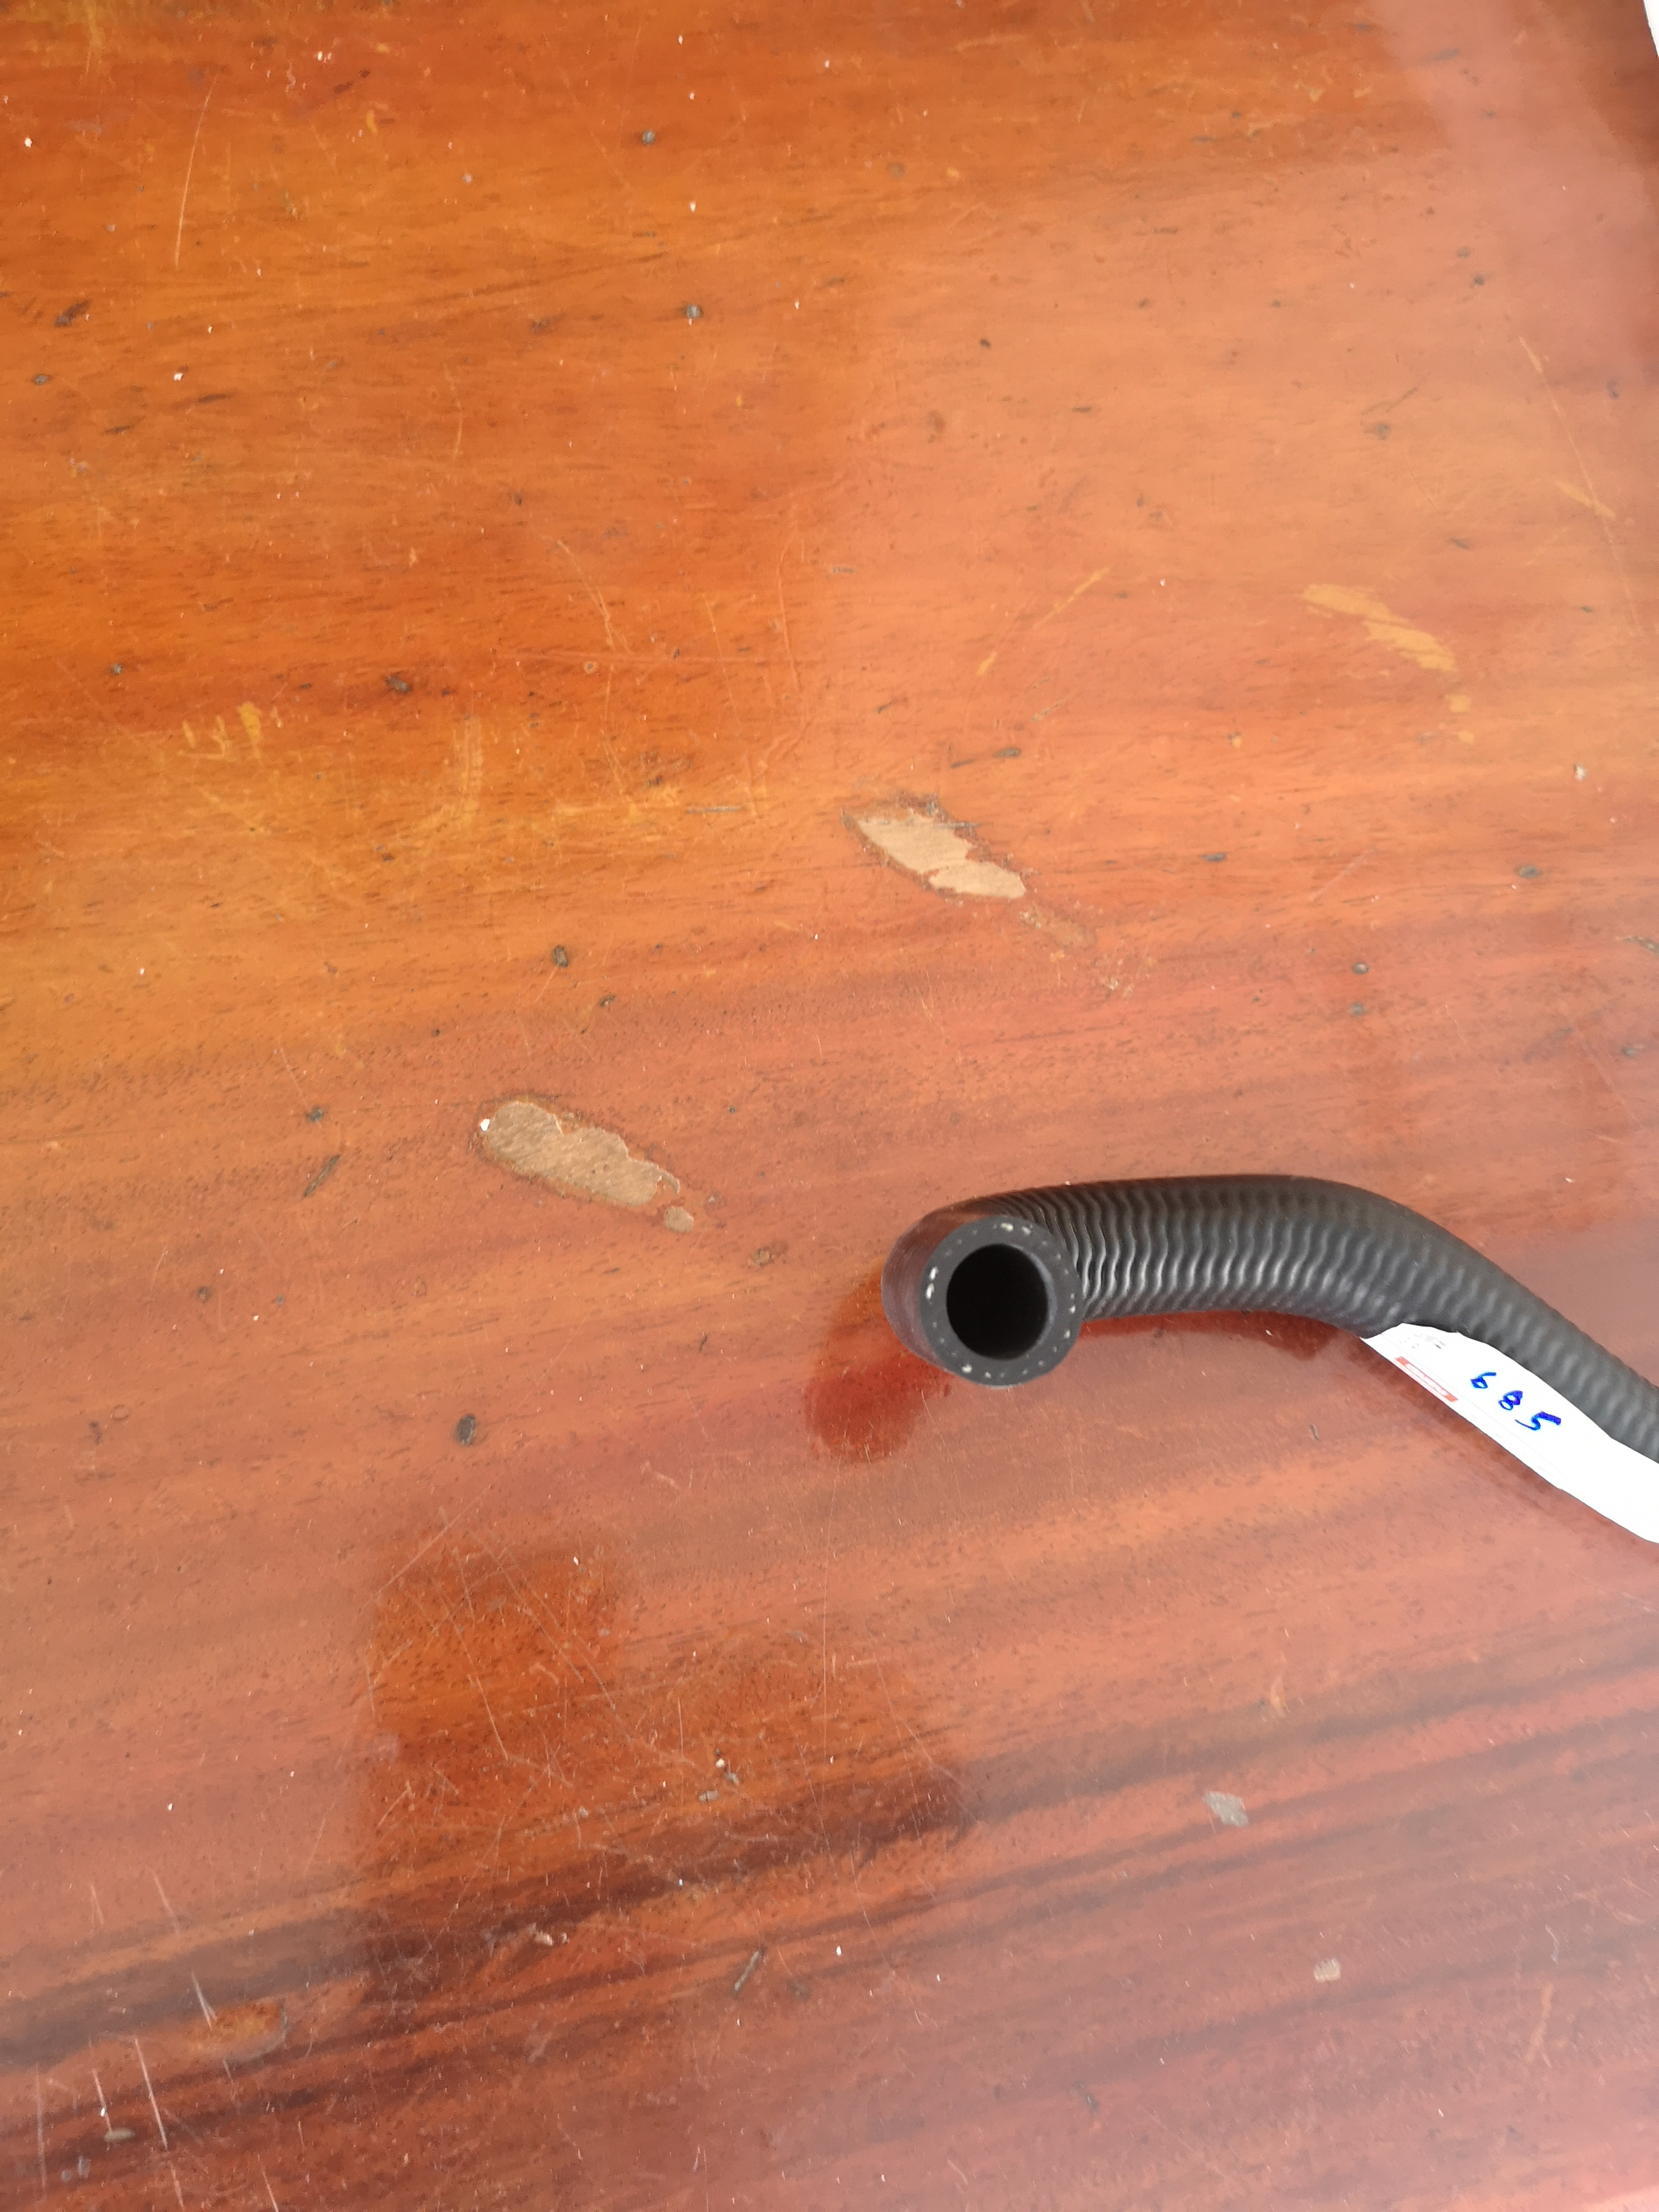ท่อยางน้ำมันเลี้ยงเทอร์โบ: (856, 1014, 1659, 1750)
